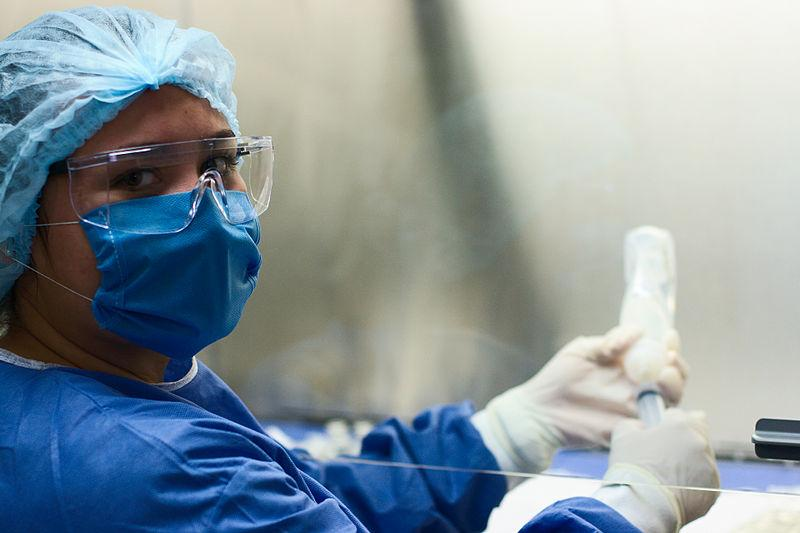Gloves On: (470, 327, 719, 530)
Goggles On: (52, 138, 273, 234)
Hairnet On: (0, 6, 241, 261)
Mask On: (81, 189, 261, 361)
Suit On: (0, 351, 506, 531), (361, 403, 498, 470)
